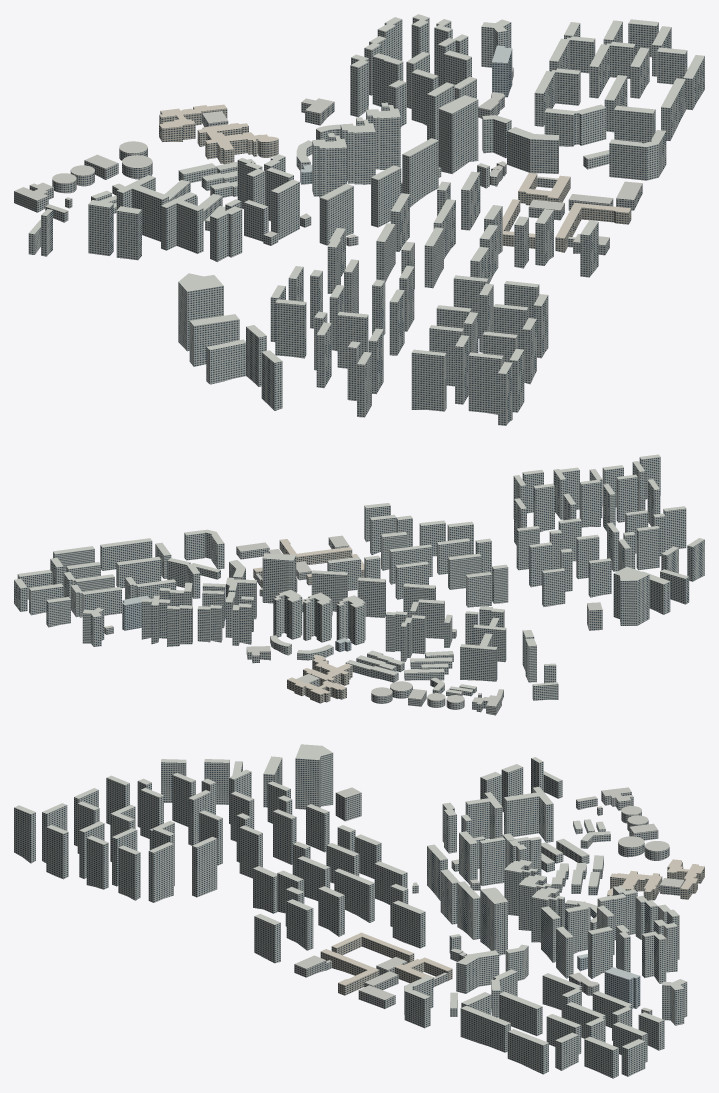
File: city_7_0.glb
The picture shows the model from 3 angles, top to bottom: view 1: azimuth 30°, elevation 25°; view 2: azimuth 150°, elevation 25°; view 3: azimuth 270°, elevation 25°; orthographic projection. The views are drawn at different scales.
Size of the model in its own units: 1018 by 109 by 1031.
4 materials, 4 textured.
